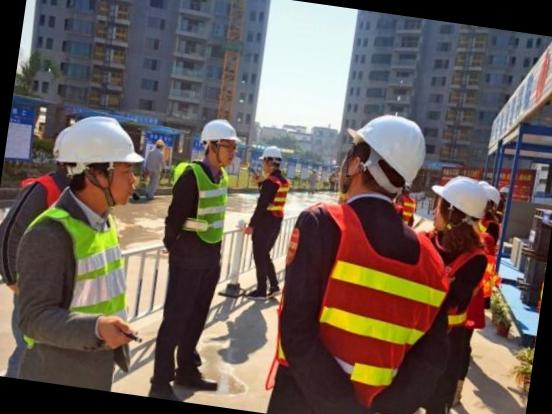Vest: (296, 203, 453, 414), (31, 204, 136, 342), (180, 164, 234, 247)
